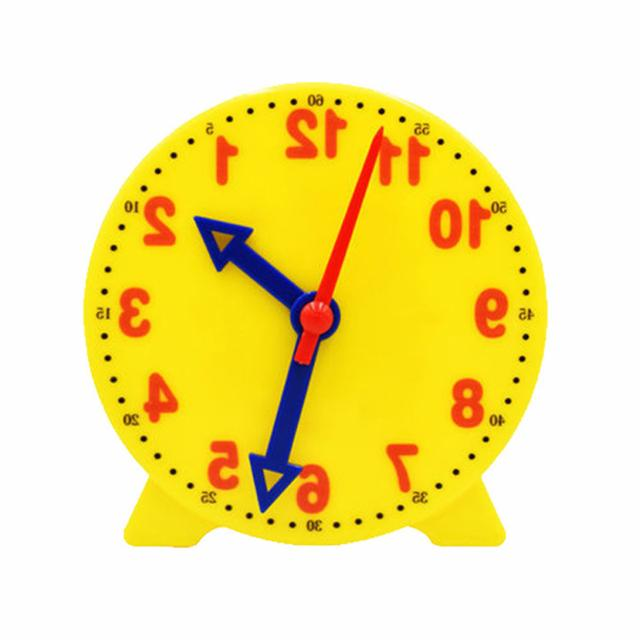clock: (58, 62, 554, 640)
